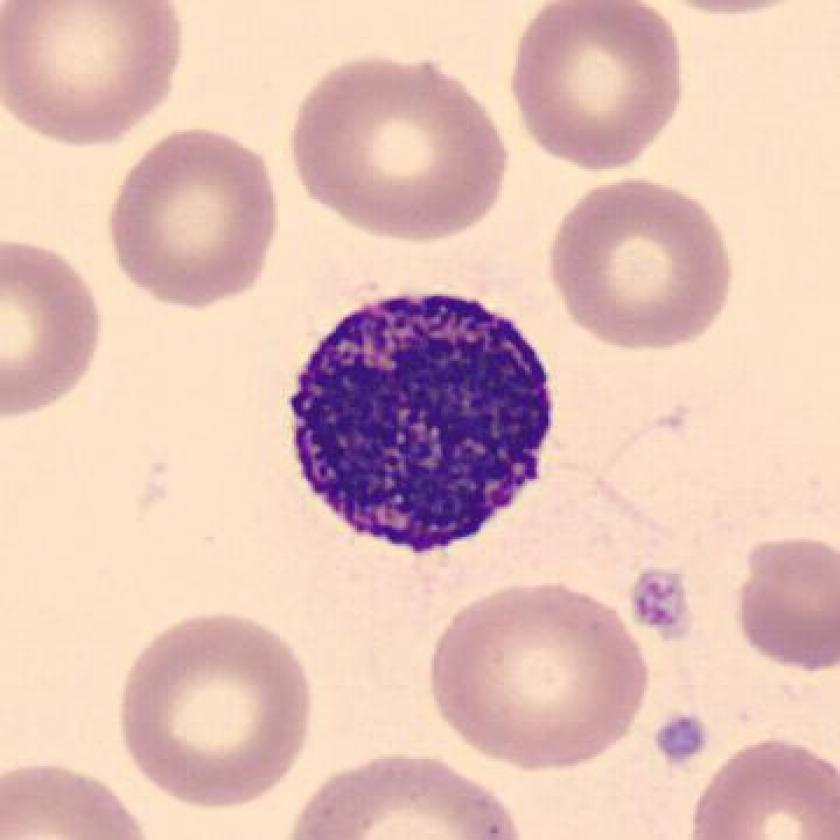basophil: (290, 293, 559, 554)
